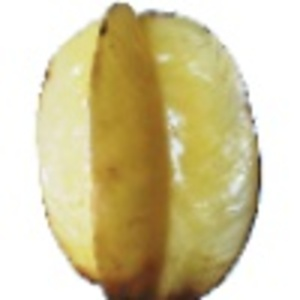carambola: (34, 1, 264, 300)
